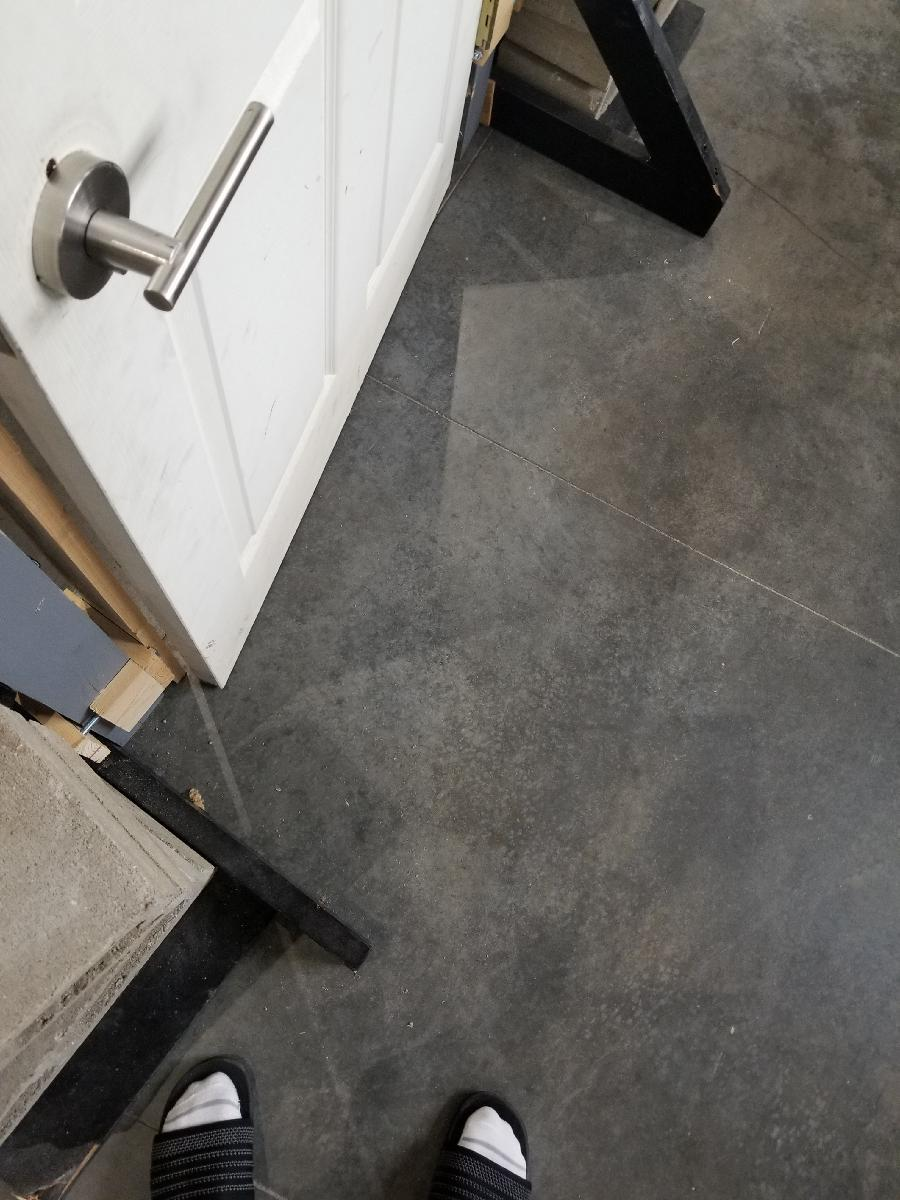door: (6, 6, 469, 693)
handle: (29, 100, 278, 318)
